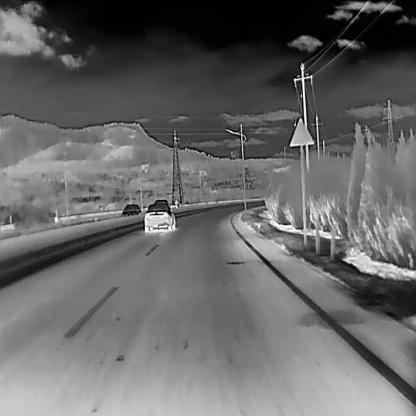car: (143, 202, 176, 233), (122, 203, 140, 217)
